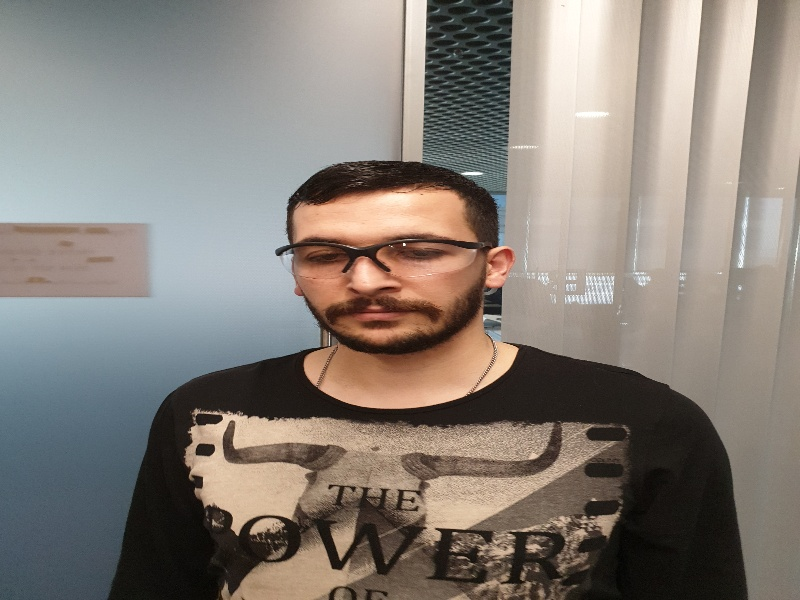Gozluk: (275, 239, 493, 276)
